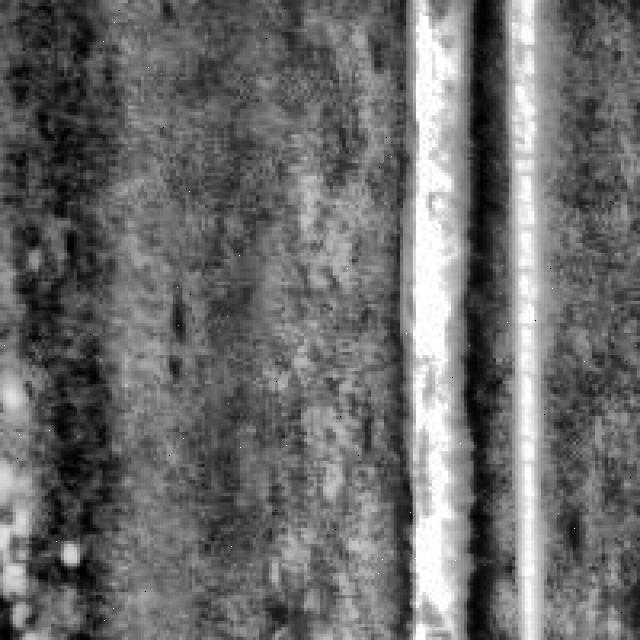Inclusion: (403, 0, 493, 634), (502, 0, 550, 634)
Patches: (160, 272, 202, 384)
